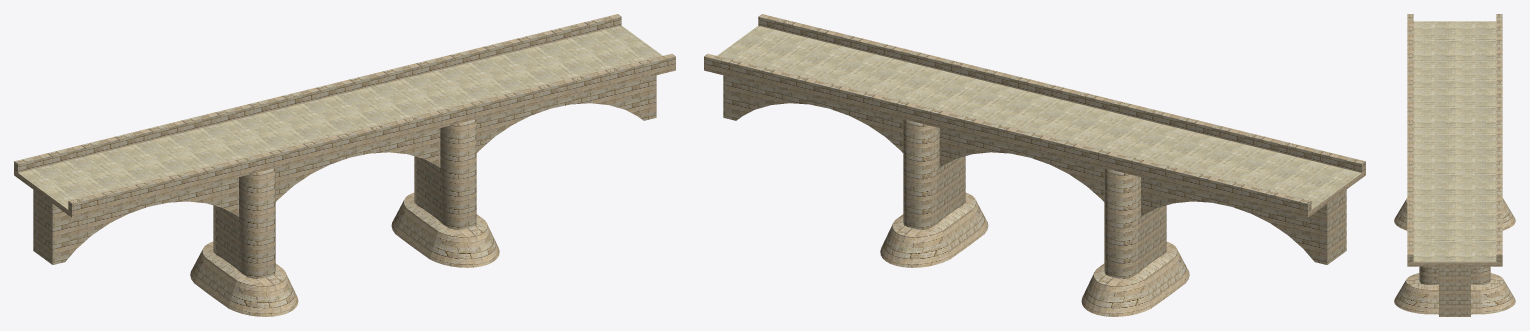
Rendered from Bridge.FBX.
The picture shows the model from 3 angles, left to right: view 1: azimuth 30°, elevation 25°; view 2: azimuth 150°, elevation 25°; view 3: azimuth 270°, elevation 25°; orthographic projection. The views are drawn at different scales.
Visible parts, largest first — view 1: Sphere002; view 2: Sphere002; view 3: Sphere002.
Boxes of the visible parts, bbox=[...] form: Sphere002: bbox=[14, 14, 675, 316]; Sphere002: bbox=[704, 14, 1365, 316]; Sphere002: bbox=[1394, 14, 1515, 316].
Size of the model in its own units: 18000 by 4402 by 3840.
Materials: 2 (2 with a texture image).
